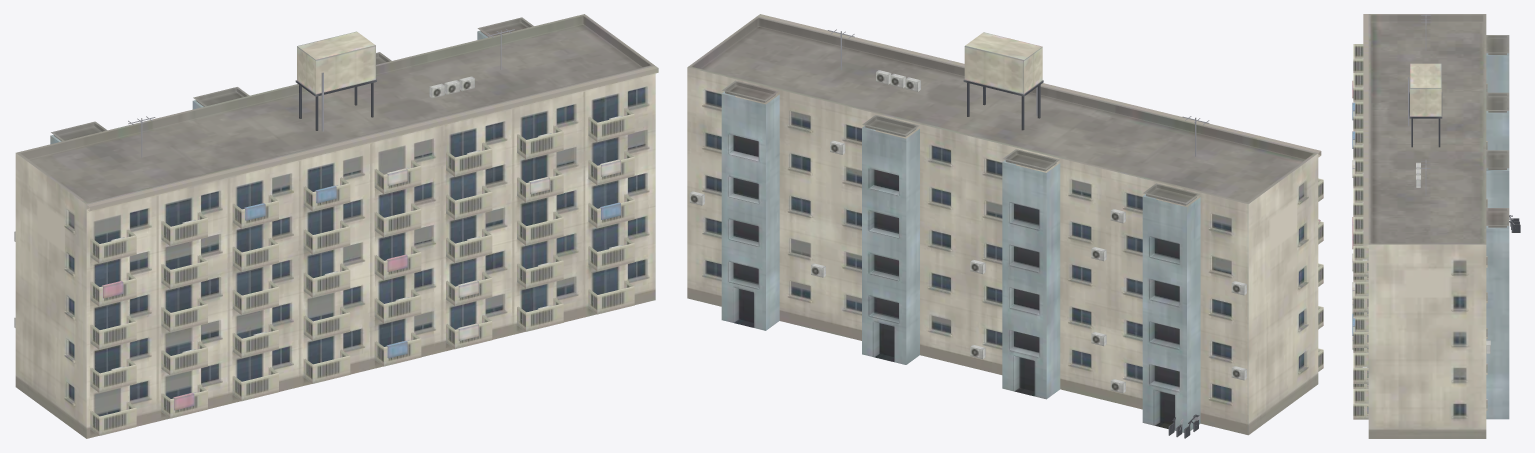
The model's file is tokyo_apartment_b.glb.
3 renders of one model, left to right at view 1: azimuth 30°, elevation 25°; view 2: azimuth 150°, elevation 25°; view 3: azimuth 270°, elevation 25°, orthographic. The views are drawn at different scales.
Parts seen in each view (by area): view 1: tokyo_apartment_b; view 2: tokyo_apartment_b; view 3: tokyo_apartment_b.
Boxes of the visible parts, x1=… form: tokyo_apartment_b: x1=14, y1=14, x2=658, y2=438; tokyo_apartment_b: x1=687, y1=14, x2=1323, y2=438; tokyo_apartment_b: x1=1352, y1=14, x2=1520, y2=438.
Bounding box in the file's own units: 38.22 × 19.05 × 11.73.
Materials: 1 (1 with a texture image).
